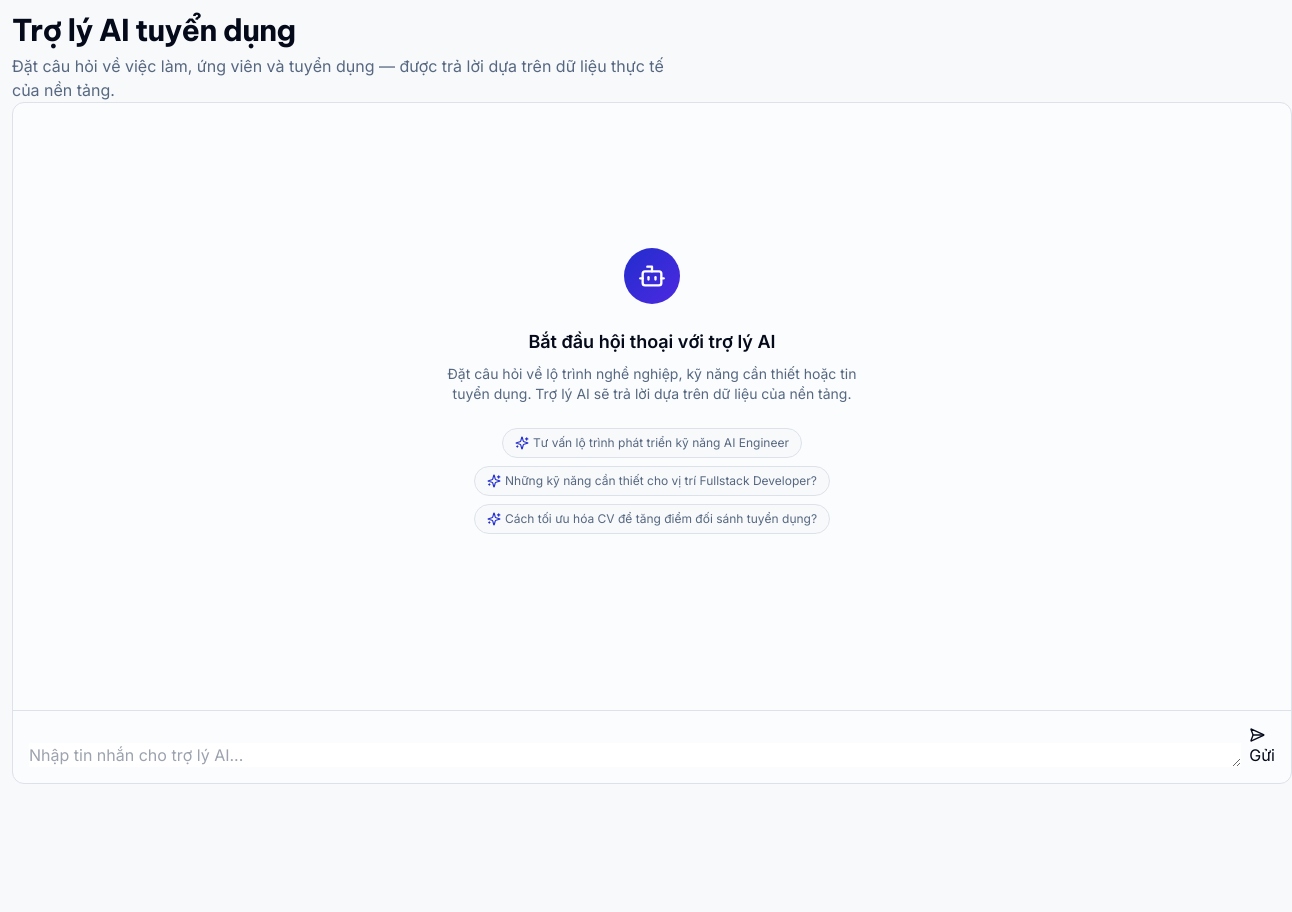
Test: AIChatPage › shows loading state while waiting
(page scrolled)
Step 1. Type "Câu hỏi" into the text box named "Tin nhắn chat" → (635, 755), box [29,743,1241,767]
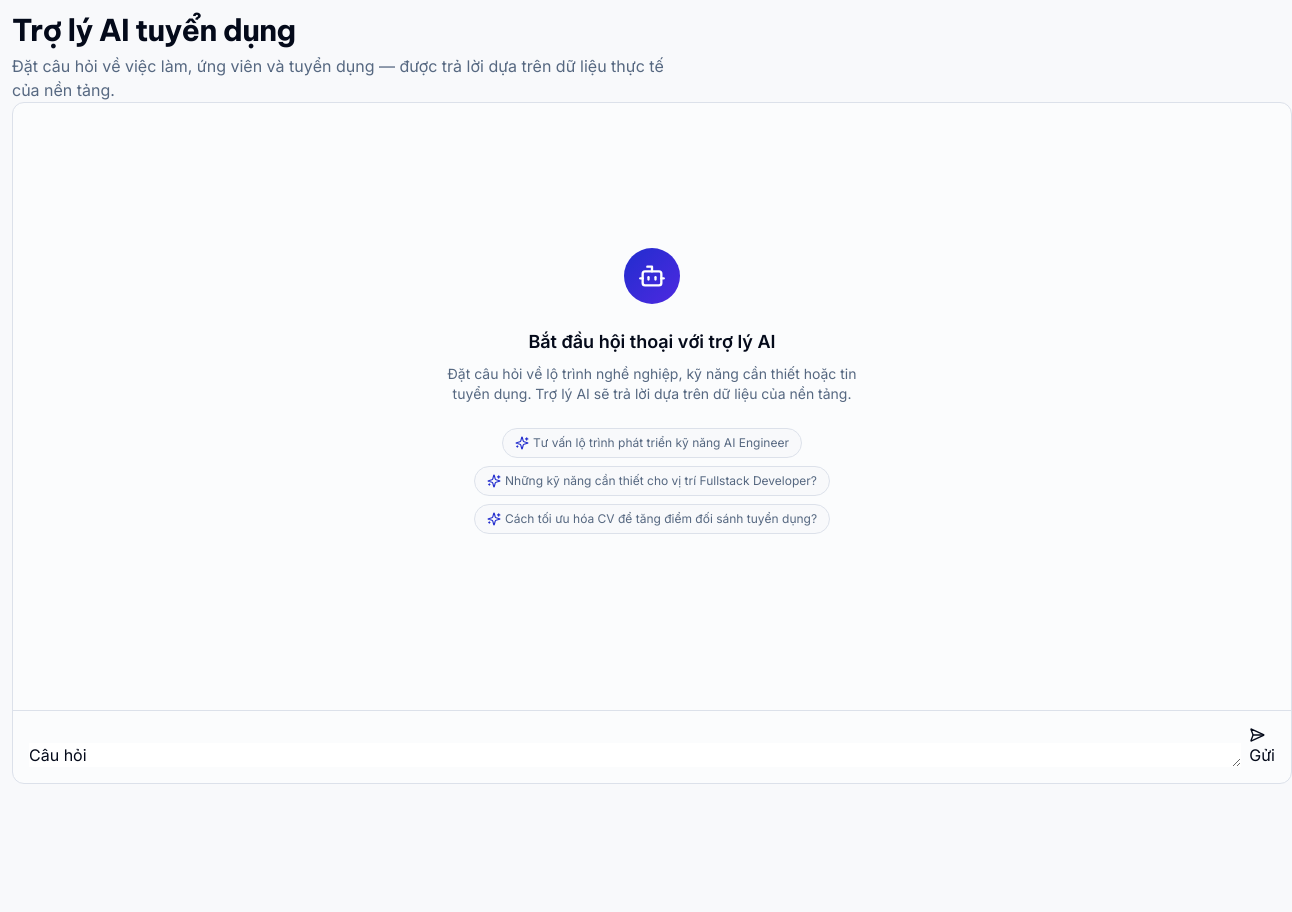
Step 2. Click the button "Gửi" → (1262, 747), box [1249,727,1275,767]
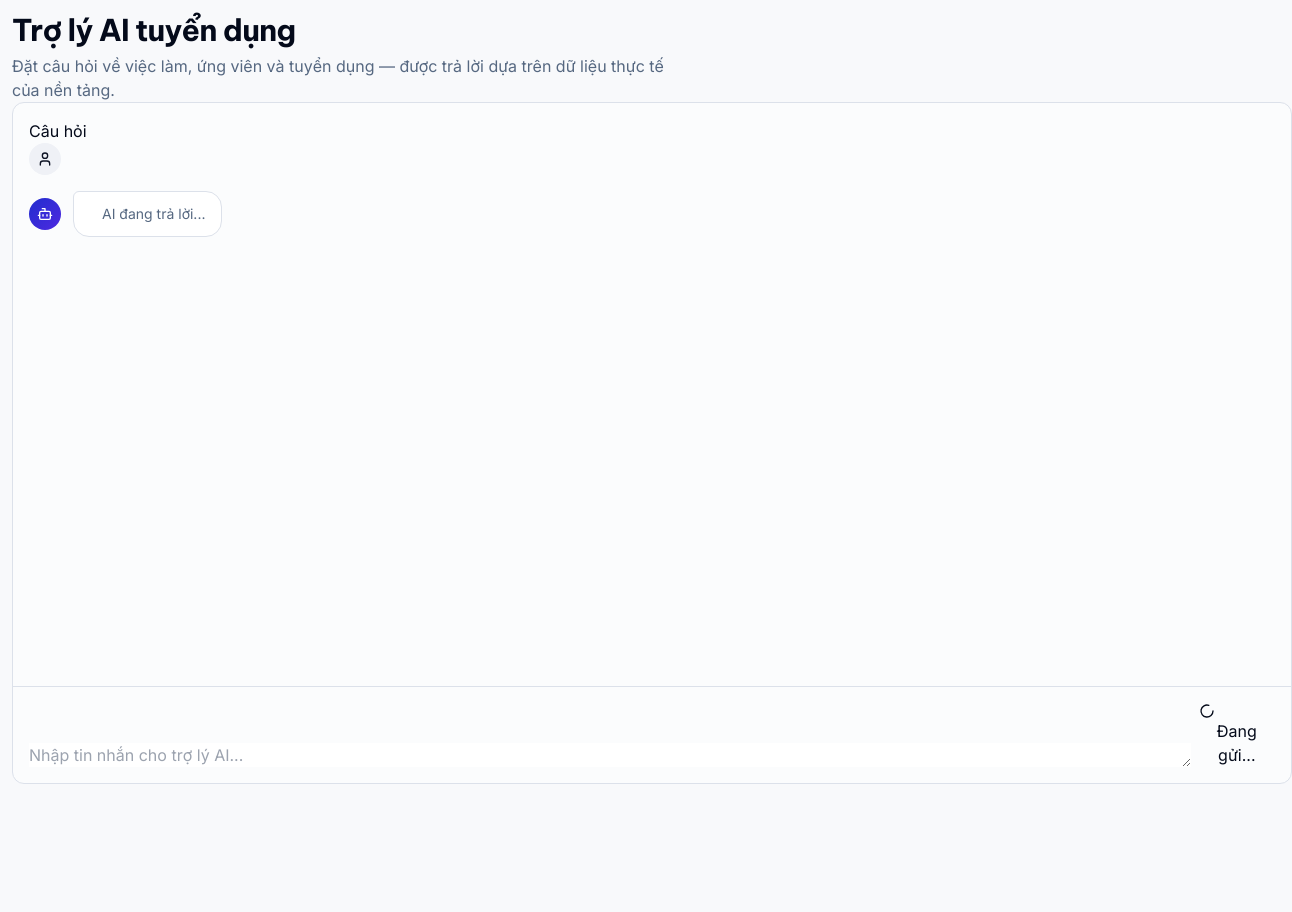
Expected: the text "AI đang trả lời..." is shown, [102,204,206,224]
